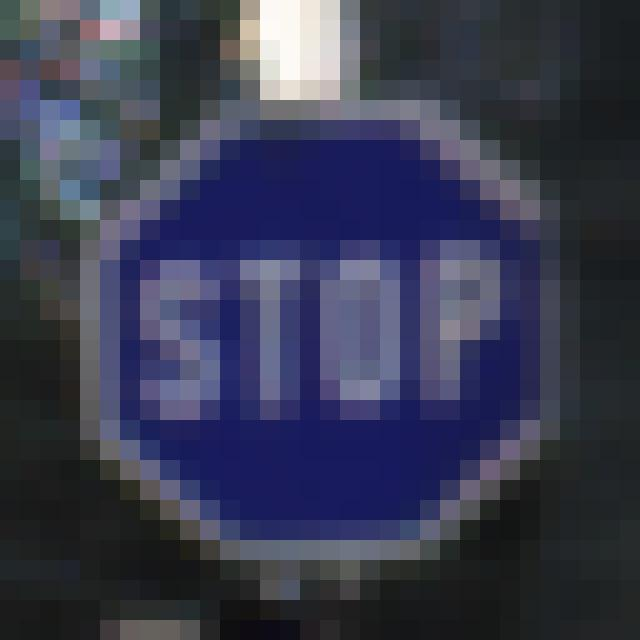STOP: (99, 104, 552, 564)
